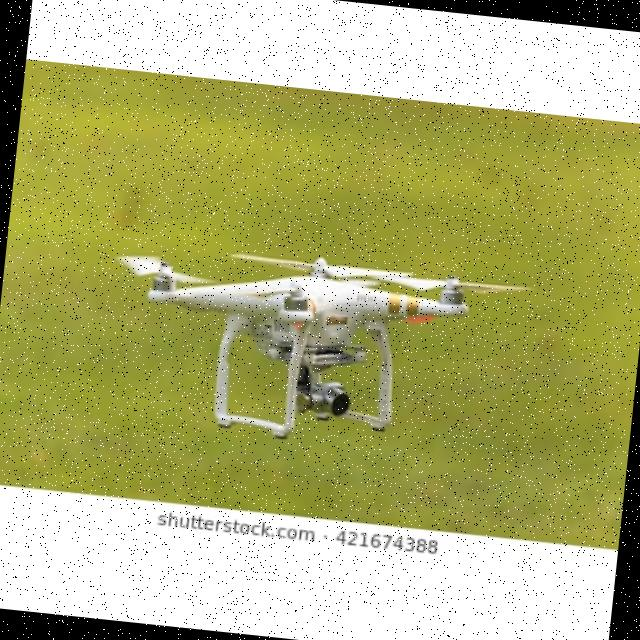Drones: (130, 238, 496, 458)
